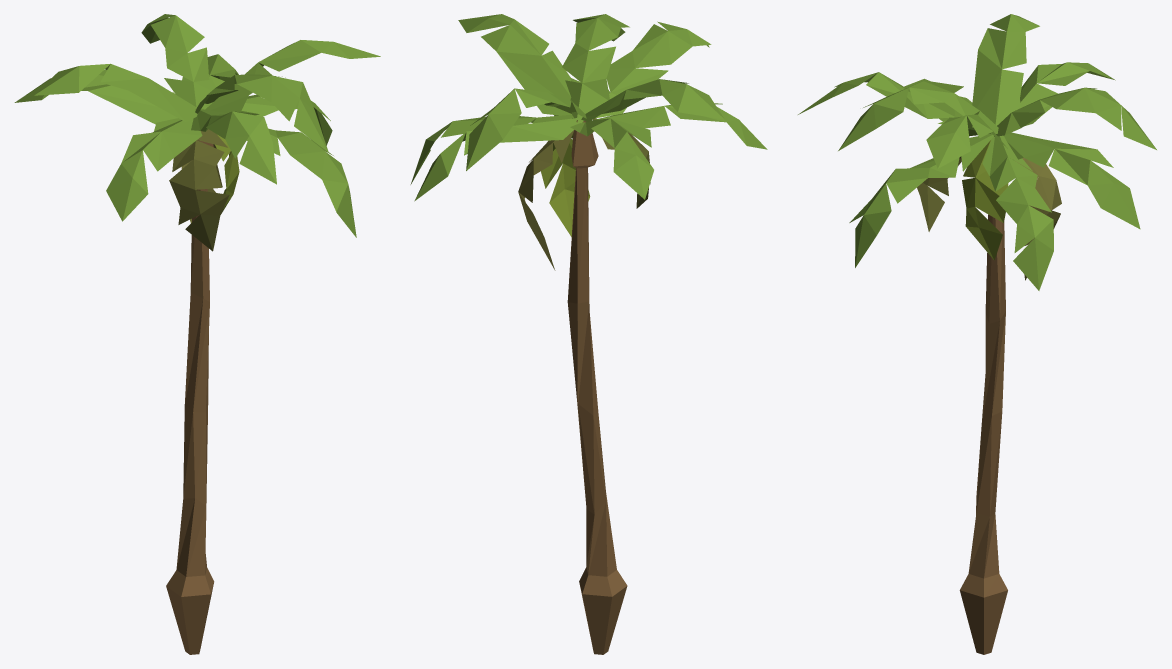
The model's file is plant_L05.FBX.
3 views of the same model, side by side, from view 1: azimuth 30°, elevation 25°; view 2: azimuth 150°, elevation 25°; view 3: azimuth 270°, elevation 25° (orthographic). The views are drawn at different scales.
Visible parts, largest first — view 1: plant_L05; view 2: plant_L05; view 3: plant_L05.
Boxes of the visible parts, x1,y1,x2,y2 form: plant_L05: (14,14,380,654); plant_L05: (410,14,767,654); plant_L05: (798,14,1156,654).
Bounding box in the file's own units: 221 × 413 × 230.
1 material, 1 textured.
